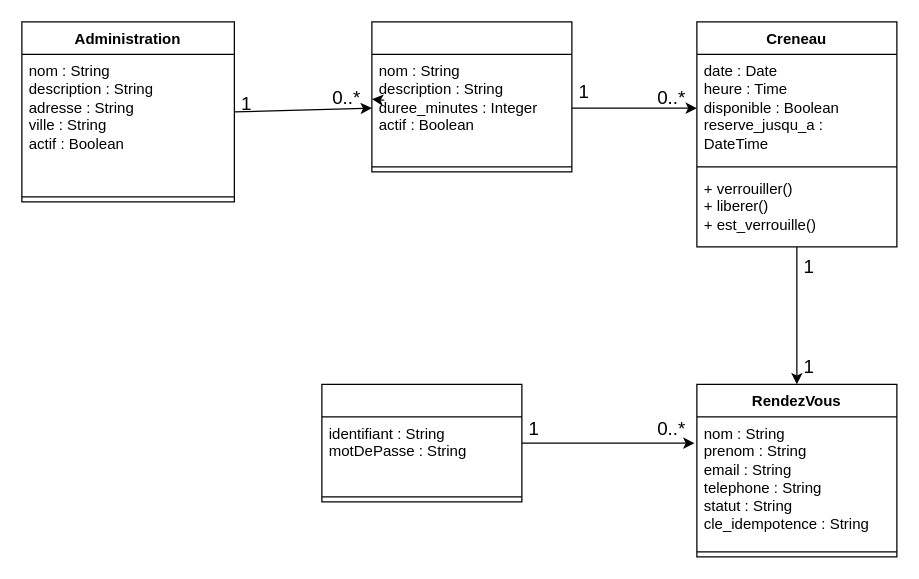
This 919x579 diagram has some shape labels left out. The box of each missing label's shape, as (x1, y1, x2, y2) in pixels:
Agent: (321, 383, 522, 502)
Demarche: (371, 21, 572, 172)
